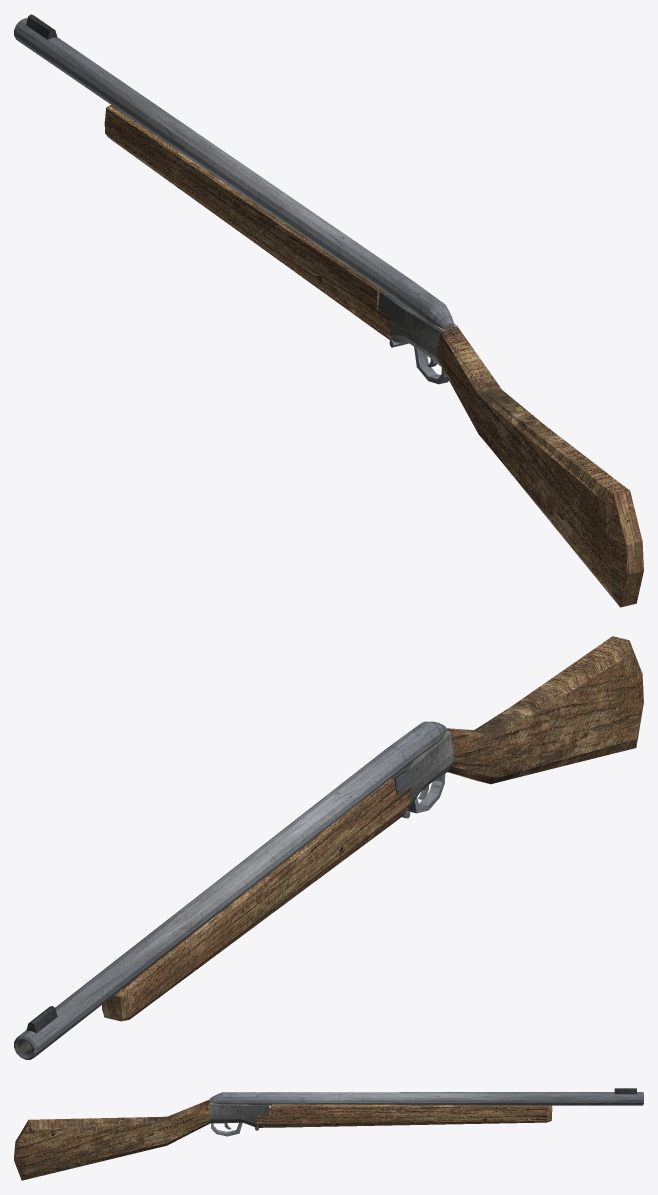
Rendered from Gun.dae.
3 renders of one model, top to bottom at view 1: azimuth 30°, elevation 25°; view 2: azimuth 150°, elevation 25°; view 3: azimuth 270°, elevation 25°, orthographic. The views are drawn at different scales.
Visible parts, largest first — view 1: GunShoot, GunHandle; view 2: GunShoot, GunHandle; view 3: GunShoot, GunHandle.
Boxes of the visible parts, x1,y1,x2,y2 form: GunShoot: (14,14,410,340); GunHandle: (378,278,643,607); GunShoot: (14,747,410,1059); GunHandle: (385,636,643,818); GunShoot: (256,1088,643,1127); GunHandle: (14,1092,269,1180).
Size of the model in its own units: 0.3677 by 9.87 by 1.51.
3 materials, 3 textured.
